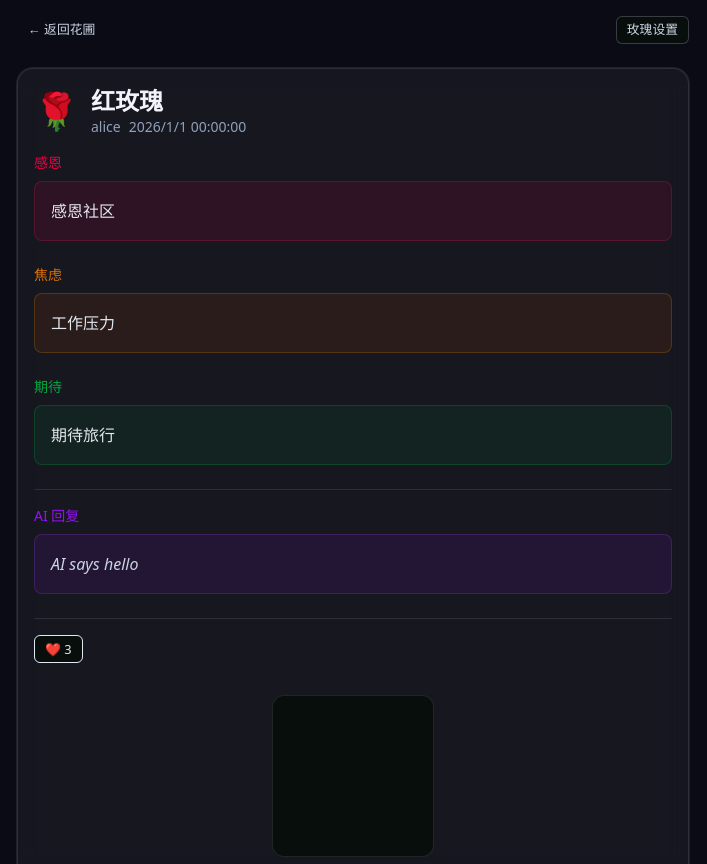
Scenario: RoseDetailPage › should show settings error
The image size is (707, 864).
Click the button "玫瑰设置" at (652, 30), box [616,16,689,44]
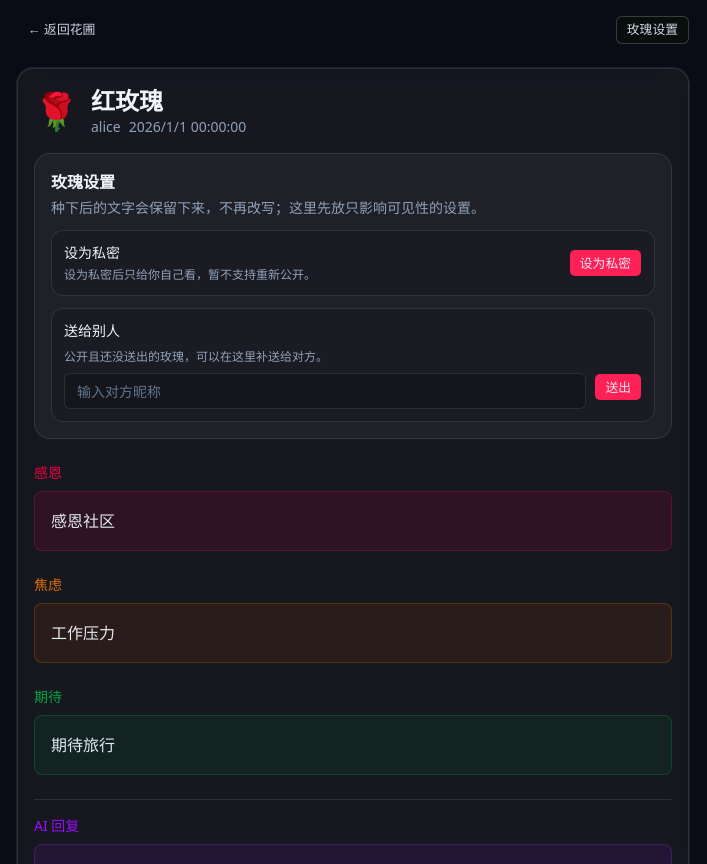
Click the button "设为私密" at (605, 263), box [569,249,642,277]
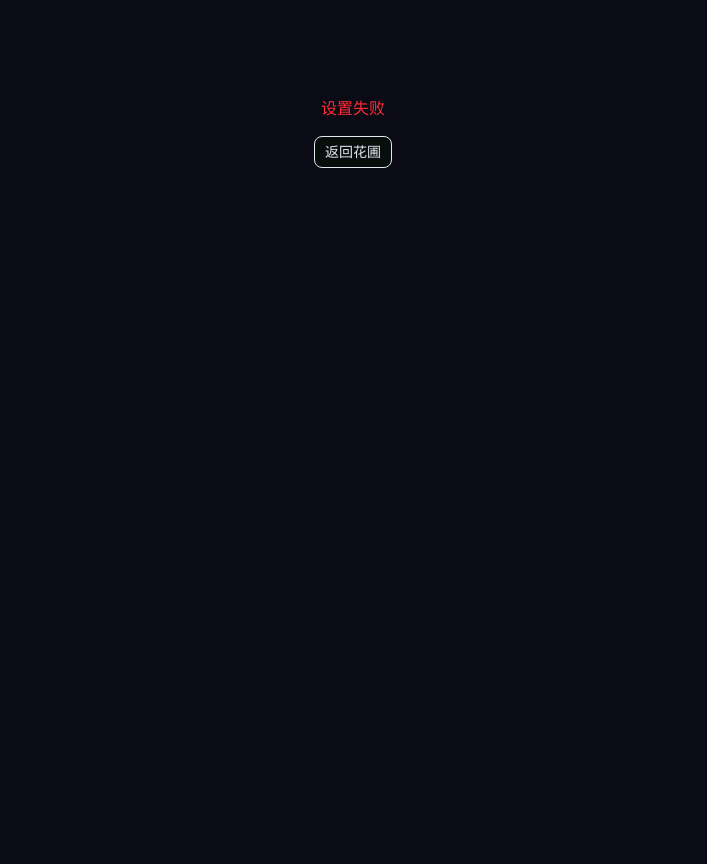
Check: the text "设置失败" is shown, box [321,97,385,119]
